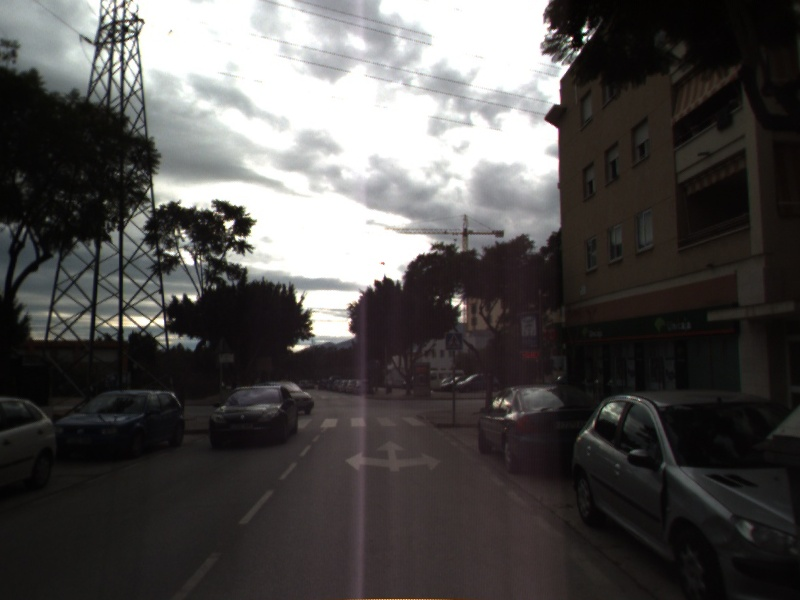STRAIGHT_LEFT_RIGHT: (343, 438, 443, 474)
